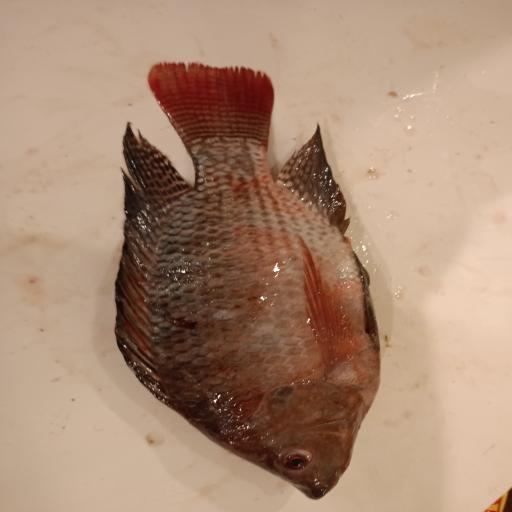Tilapia: (114, 62, 381, 499)
